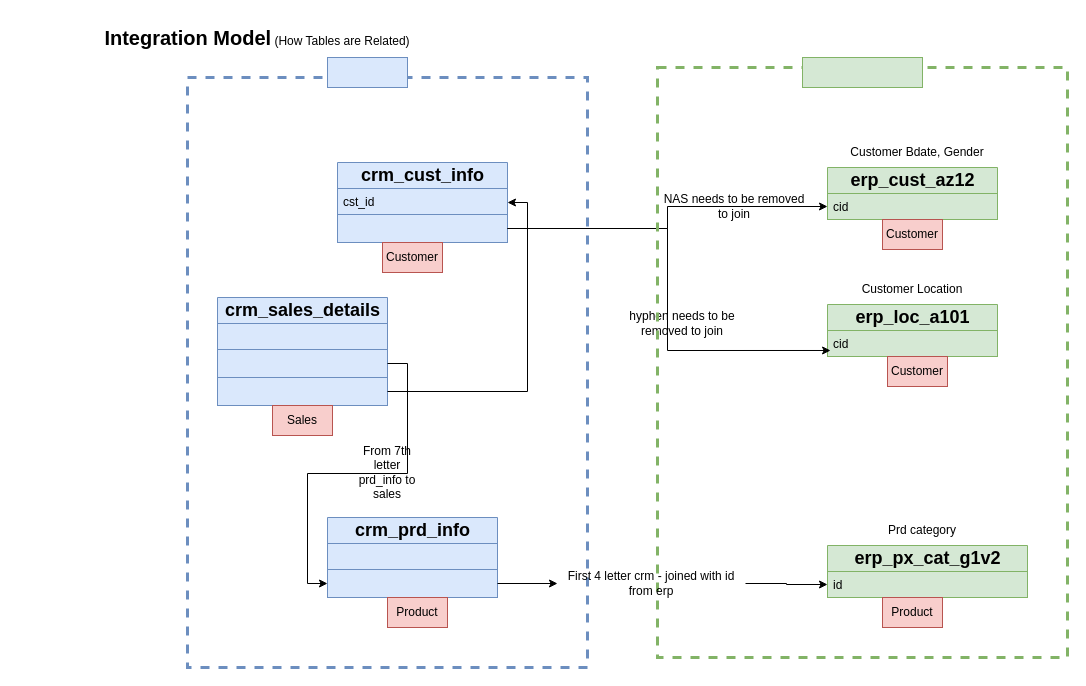
Image size: 1086x686. Some labels were removed from this diagram. Each missing label, with the centre of its shape:
"CRM" goes at point 367,72.
"cst_key" goes at point 422,228.
"ERP" goes at point 862,72.
"prd_id" goes at point 412,556.
"prd_key" goes at point 412,583.
"sls_cust_id" goes at point 302,391.
"sls_ord_num" goes at point 302,336.
"sls_prd_key" goes at point 302,363.
